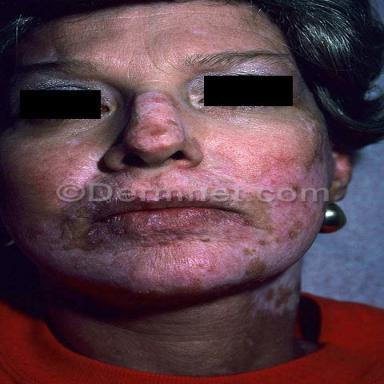Lupus-Erythematosus-Chronicus-Discoides: (15, 202, 327, 320), (69, 112, 332, 188), (126, 92, 185, 153)
